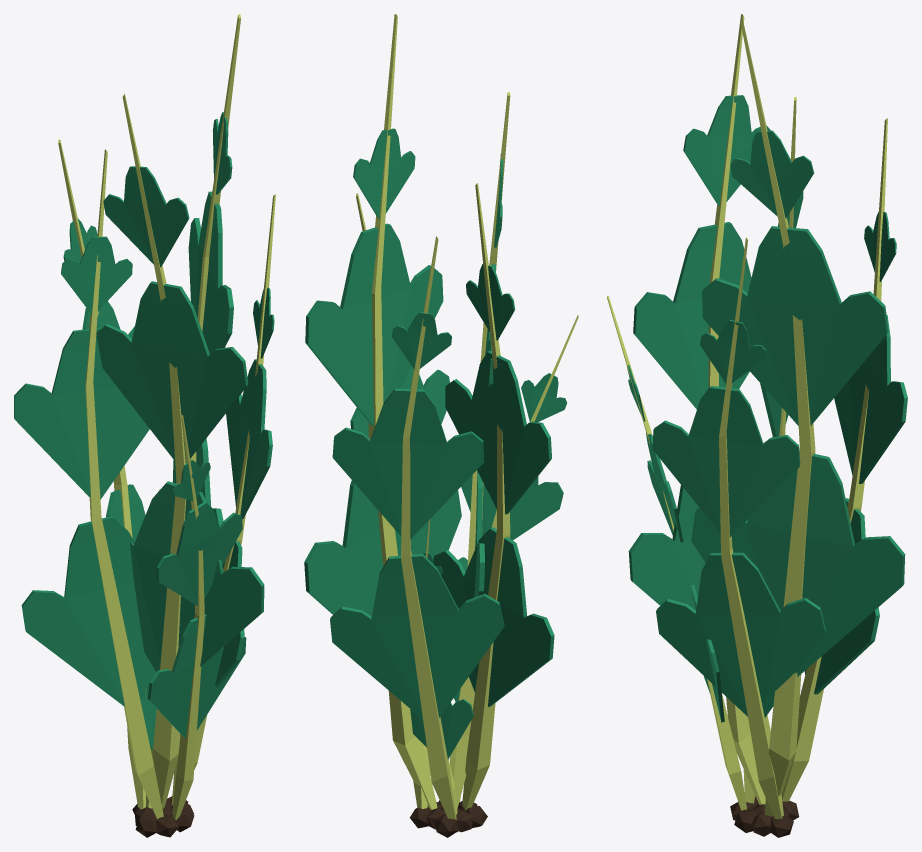
The model's file is Carrot_7.fbx.
3 renders of one model, left to right at view 1: azimuth 30°, elevation 25°; view 2: azimuth 150°, elevation 25°; view 3: azimuth 270°, elevation 25°, orthographic. The views are drawn at different scales.
Visible parts, largest first — view 1: 7_Carrot; view 2: 7_Carrot; view 3: 7_Carrot.
Part boxes in pixels (<box>): 7_Carrot: <box>14,14,275,837</box>; 7_Carrot: <box>304,14,578,837</box>; 7_Carrot: <box>607,14,907,837</box>.
Bounding box in the file's own units: 29.04 × 96.96 × 31.42.
